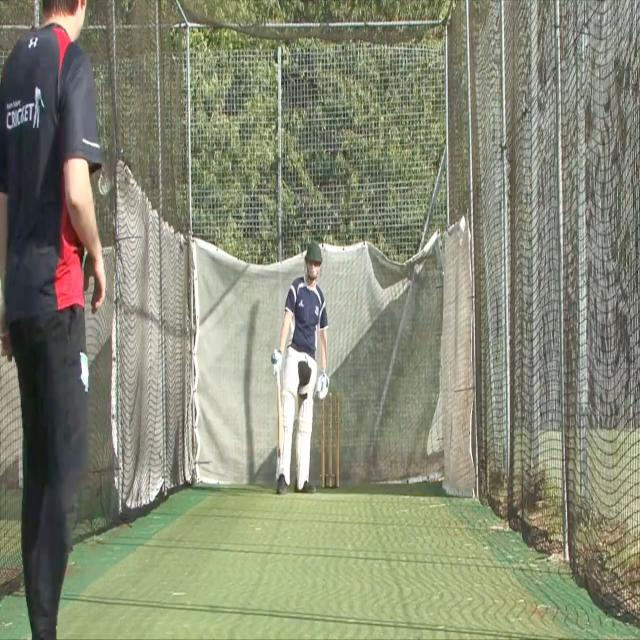batsman: (270, 240, 330, 498)
